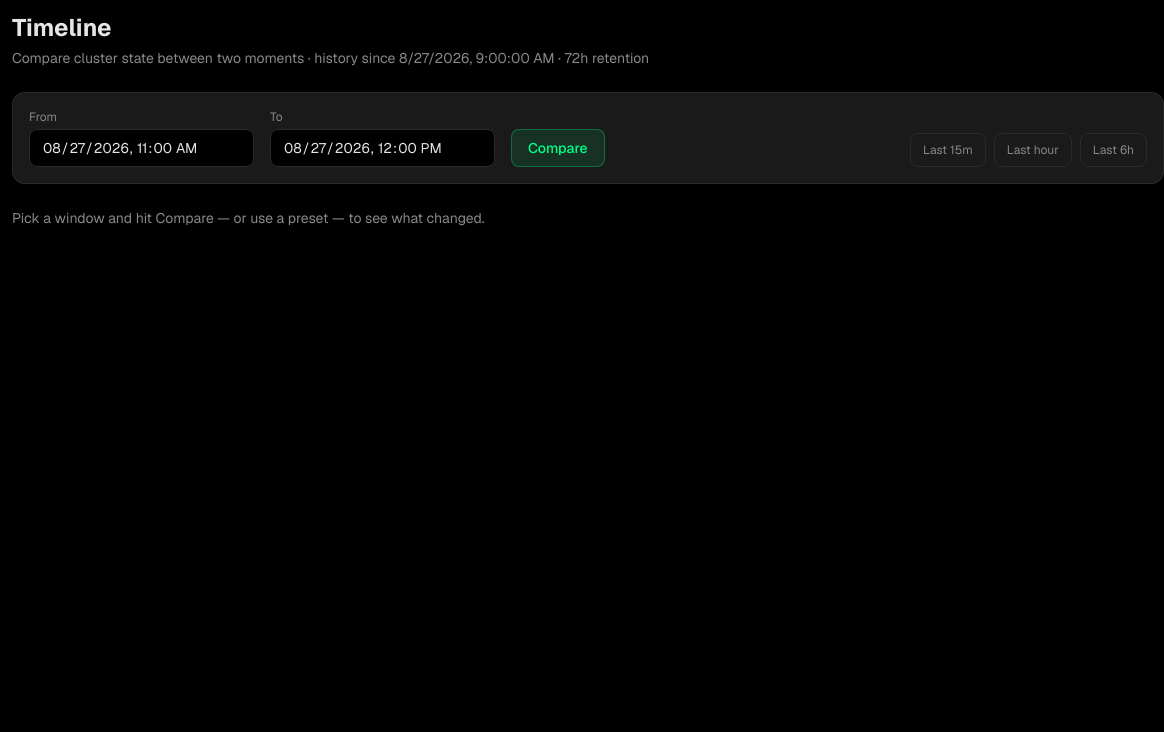
Test: TimelinePage › renders change rows, summaries and events for a preset window
What coordinates should you click on to do the following:
click the button "Last hour"
I would click on:
 (1033, 150)
Its box is [994,133,1072,167].
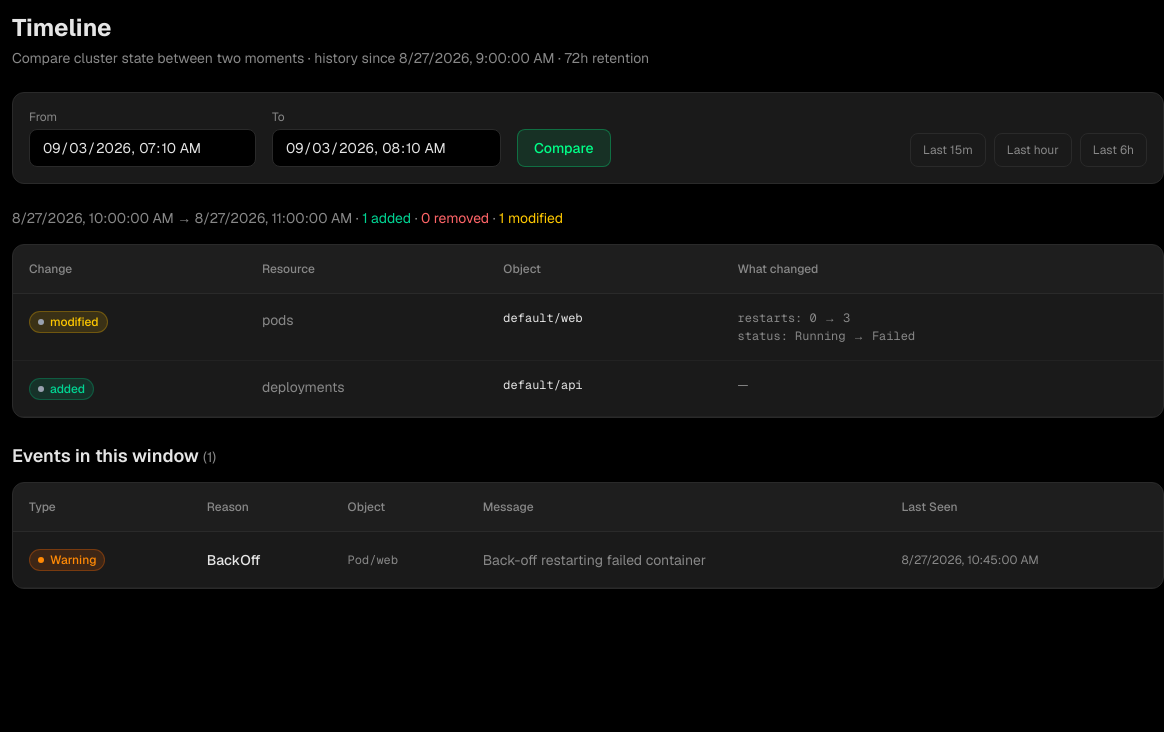
expect the text "1 added" is shown: met, box [362,209,411,227]
expect the text "0 removed" is shown: met, box [421,209,489,227]
expect the text "1 modified" is shown: met, box [499,209,563,227]
